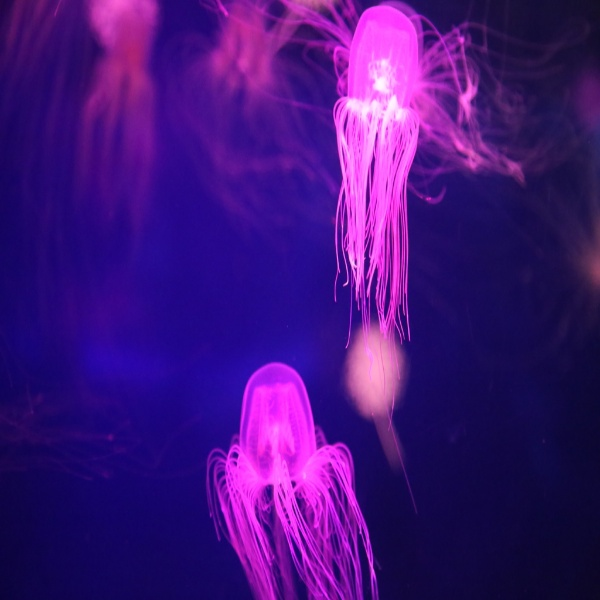Jellyfish: (212, 0, 526, 430), (203, 360, 373, 596)
